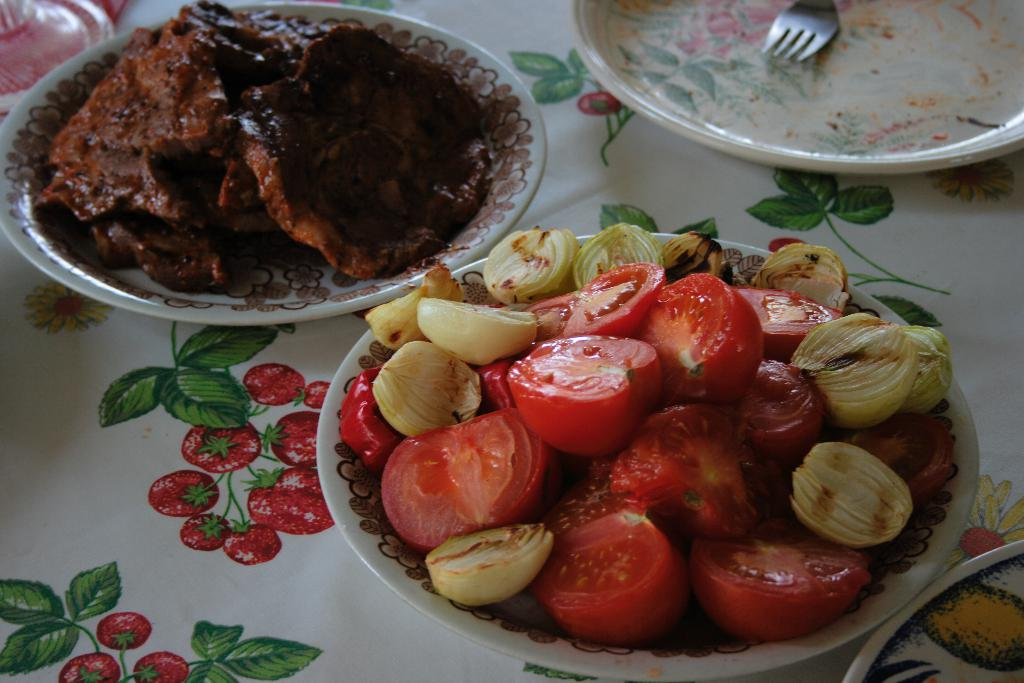Tomato: (378, 406, 545, 551), (542, 461, 671, 645), (501, 345, 678, 467), (692, 526, 871, 640), (634, 269, 766, 401), (560, 260, 666, 334), (241, 469, 331, 539), (259, 406, 325, 469), (179, 424, 256, 472), (147, 468, 217, 517), (241, 362, 301, 406), (225, 519, 281, 564), (94, 609, 154, 650), (60, 650, 120, 682), (181, 517, 229, 553), (136, 652, 190, 682), (296, 379, 330, 414)
